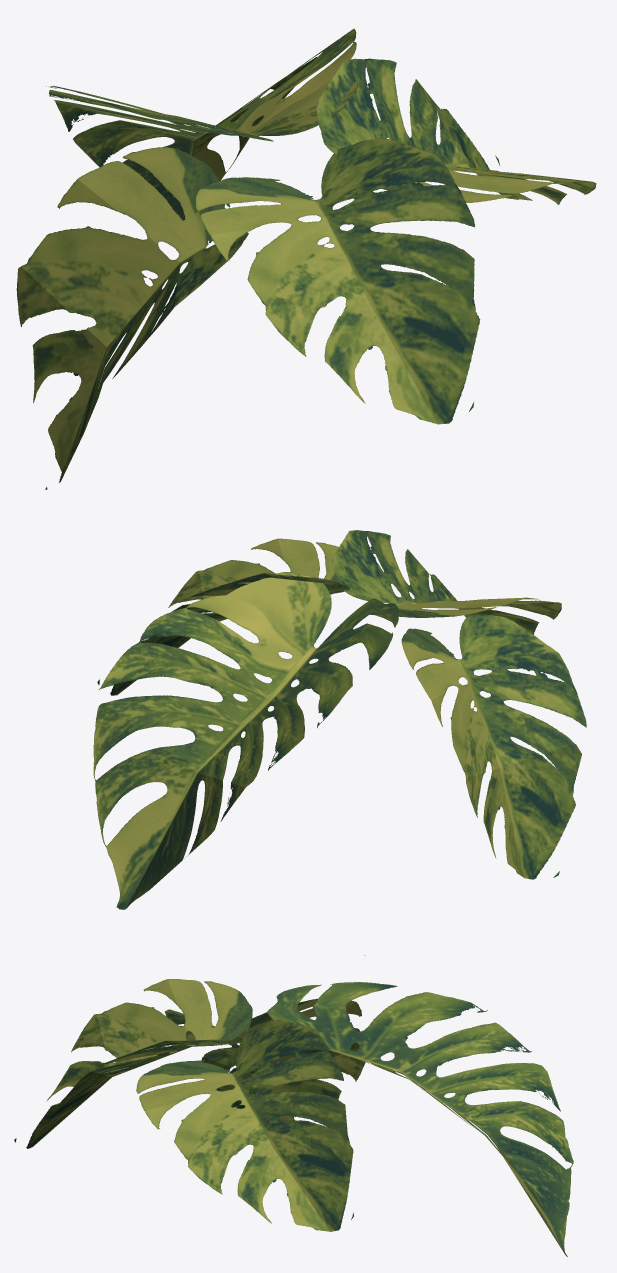
Rendered from MonsteraSmall.fbx.
The picture shows the model from 3 angles, top to bottom: view 1: azimuth 30°, elevation 25°; view 2: azimuth 150°, elevation 25°; view 3: azimuth 270°, elevation 25°; orthographic projection. The views are drawn at different scales.
Parts seen in each view (by area): view 1: Plane.029; view 2: Plane.029; view 3: Plane.029.
Part boxes in pixels (x1,y1,x2,y2): Plane.029: (16, 28, 596, 489); Plane.029: (93, 530, 586, 909); Plane.029: (14, 955, 573, 1256).
Bounding box in the file's own units: 151 × 97.87 × 192.
